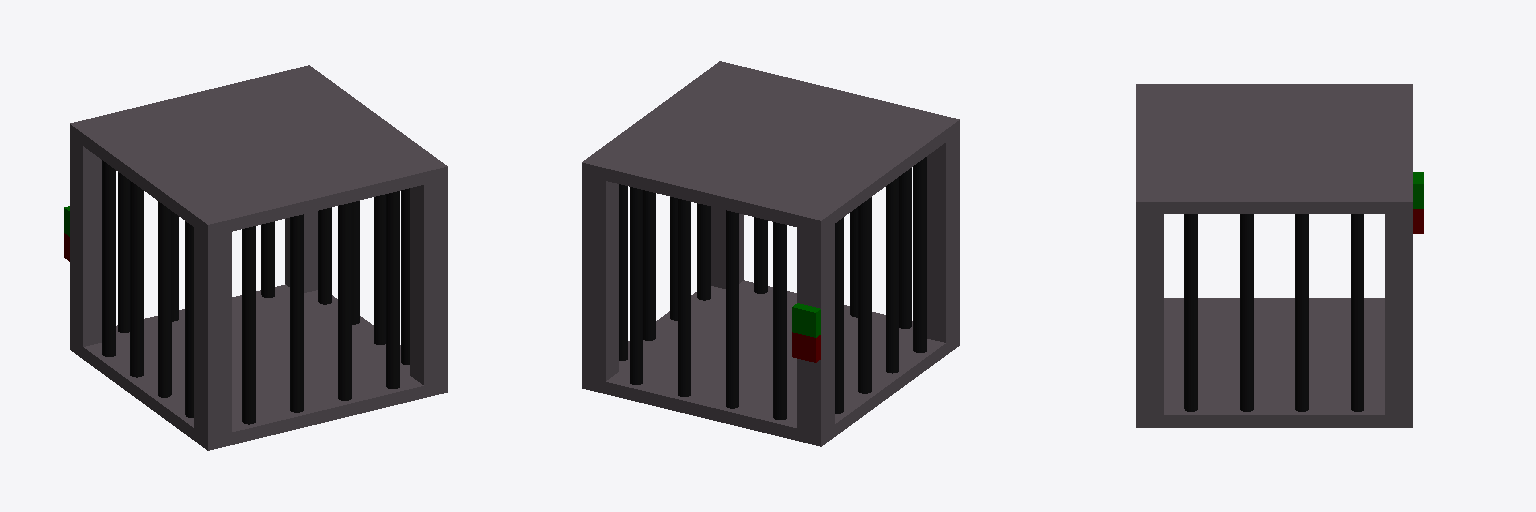
The model's file is Cell.obj.
The picture shows the model from 3 angles: view 1: azimuth 30°, elevation 25°; view 2: azimuth 150°, elevation 25°; view 3: azimuth 270°, elevation 25°; orthographic projection.
Parts seen in each view (by area): view 1: Part3, Part6, Part4, Part5, Part1, Part15, Part10, Part14, Part12, Part11, Part18, Part17 (+9 smaller); view 2: Part3, Part6, Part2, Part4, Part1, Part19, Part18, Part9, Part21, Part20, Part22, Part17 (+11 smaller); view 3: Part3, Part6, Part2, Part5, Part7, Part16, Part8, Part13.
Boxes of the visible parts, x1=… form: Part3: x1=70, y1=65, x2=447, y2=236; Part6: x1=70, y1=284, x2=447, y2=450; Part4: x1=194, y1=228, x2=231, y2=437; Part5: x1=410, y1=179, x2=447, y2=385; Part1: x1=70, y1=137, x2=101, y2=346; Part15: x1=290, y1=214, x2=303, y2=412; Part10: x1=242, y1=226, x2=255, y2=424; Part14: x1=338, y1=203, x2=351, y2=400; Part12: x1=386, y1=191, x2=399, y2=388; Part11: x1=102, y1=160, x2=115, y2=356; Part18: x1=130, y1=181, x2=143, y2=377; Part17: x1=158, y1=201, x2=171, y2=397; Part3: x1=582, y1=61, x2=959, y2=232; Part6: x1=582, y1=280, x2=959, y2=446; Part2: x1=582, y1=175, x2=618, y2=381; Part4: x1=927, y1=132, x2=959, y2=342; Part1: x1=797, y1=224, x2=834, y2=433; Part19: x1=773, y1=222, x2=786, y2=419; Part18: x1=858, y1=197, x2=871, y2=393; Part9: x1=913, y1=157, x2=926, y2=352; Part21: x1=678, y1=199, x2=690, y2=396; Part20: x1=726, y1=210, x2=738, y2=408; Part22: x1=630, y1=187, x2=642, y2=384; Part17: x1=886, y1=177, x2=898, y2=373; Part3: x1=1136, y1=84, x2=1412, y2=213; Part6: x1=1136, y1=298, x2=1412, y2=427; Part2: x1=1385, y1=214, x2=1412, y2=414; Part5: x1=1136, y1=214, x2=1163, y2=414; Part7: x1=1240, y1=214, x2=1253, y2=411; Part16: x1=1295, y1=214, x2=1308, y2=411; Part8: x1=1184, y1=214, x2=1197, y2=411; Part13: x1=1351, y1=214, x2=1363, y2=411.
Size of the model in its own units: 10 by 9 by 10.4.